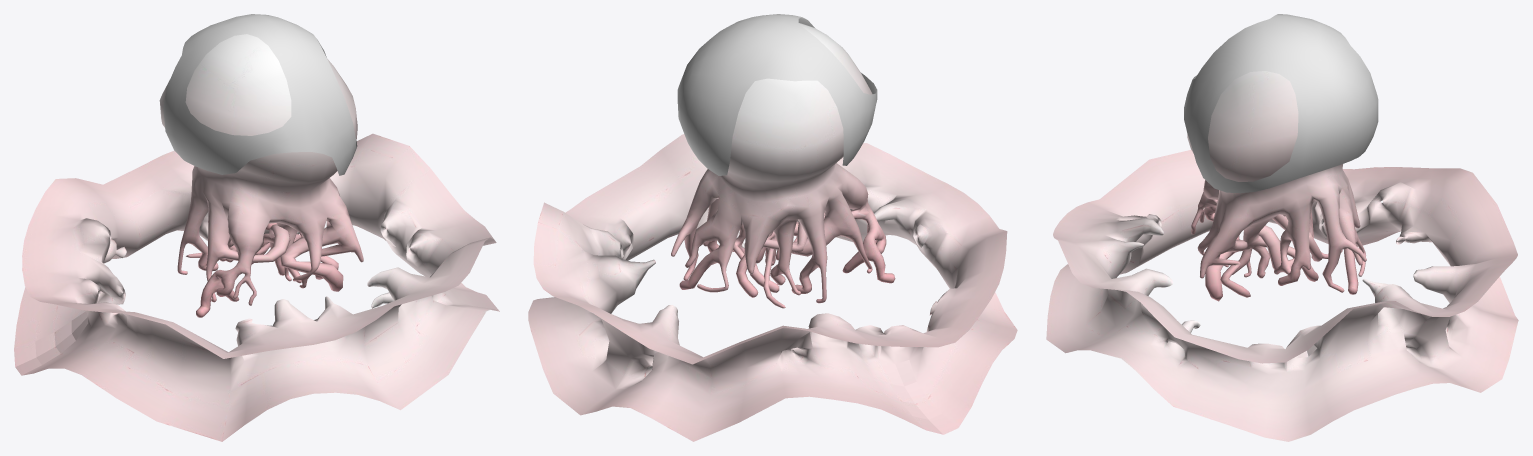
The model's file is Leukocyte.fbx.
3 views of the same model, side by side, from view 1: azimuth 30°, elevation 25°; view 2: azimuth 150°, elevation 25°; view 3: azimuth 270°, elevation 25° (orthographic). The views are drawn at different scales.
Visible parts, largest first — view 1: Leukocyte_Net, Leukocyte, Leukocyte_Oil; view 2: Leukocyte_Net, Leukocyte, Leukocyte_Oil; view 3: Leukocyte_Net, Leukocyte, Leukocyte_Oil.
Boxes of the visible parts, x1,y1,x2,y2 form: Leukocyte_Net: (14,133,499,441); Leukocyte: (159,34,363,317); Leukocyte_Oil: (163,14,357,175); Leukocyte_Net: (528,134,1017,441); Leukocyte: (671,23,895,308); Leukocyte_Oil: (677,14,877,175); Leukocyte_Net: (1046,150,1518,441); Leukocyte: (1187,71,1366,301); Leukocyte_Oil: (1184,14,1378,193).
Bounding box in the file's own units: 614 × 451 × 605.
